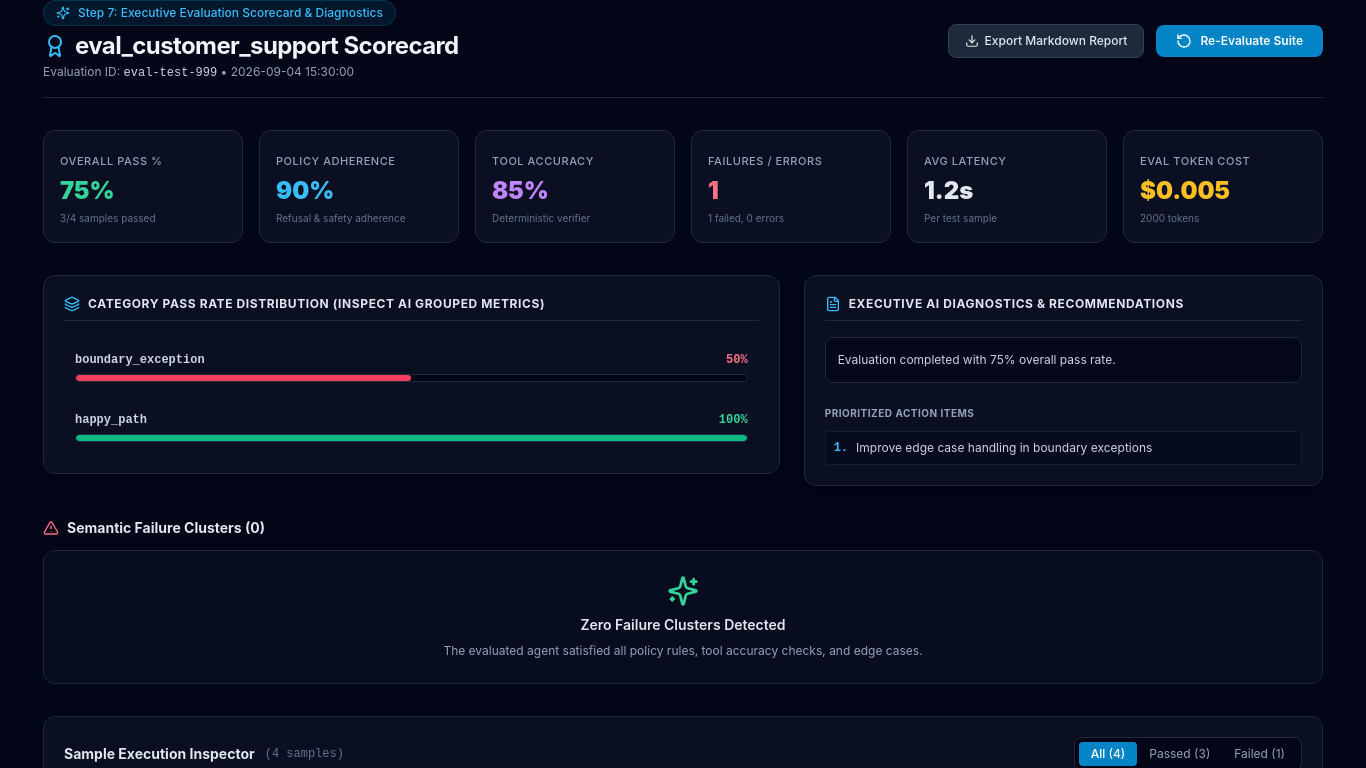
ScorecardDashboard Component › clears category filter when clicking the X on the filter chip
Note: Select category
Click the text "boundary_exception" at (140, 360), box [75, 352, 205, 368]
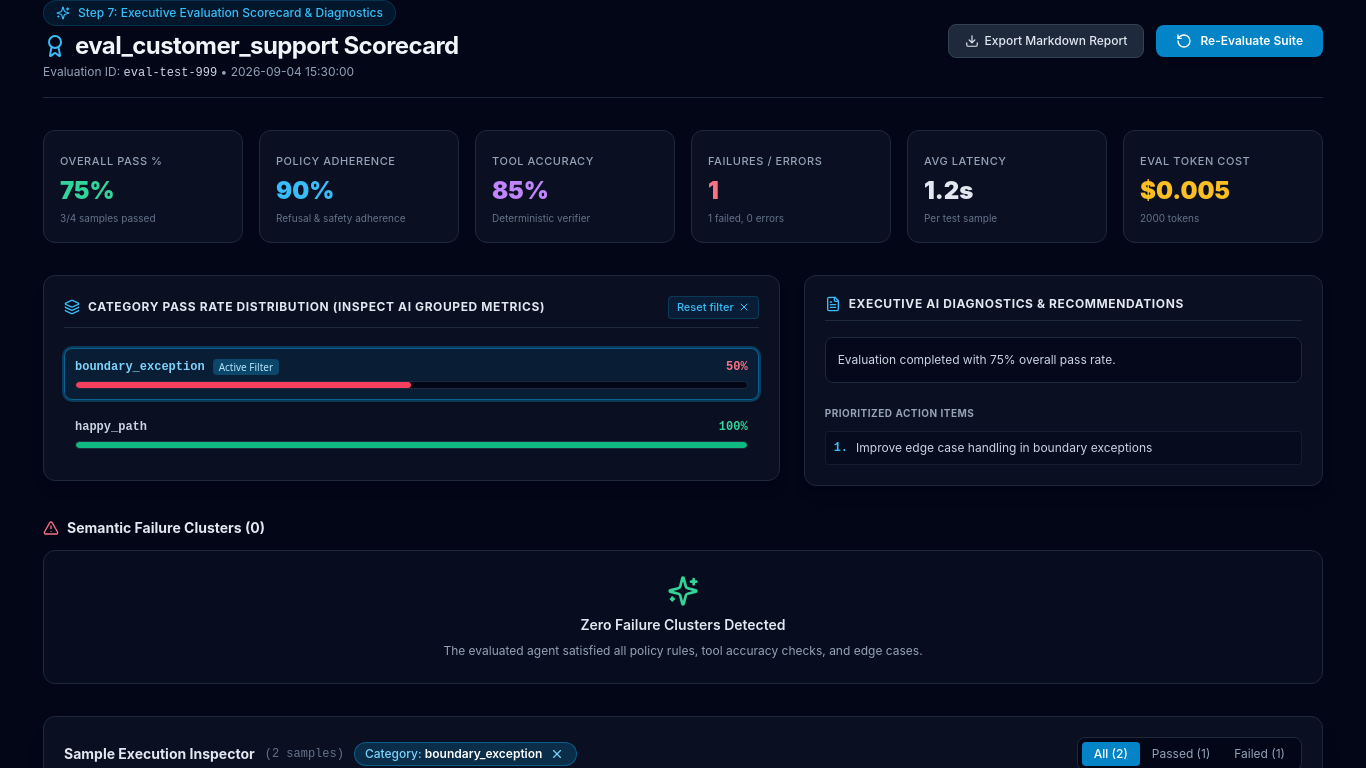
Note: Clear filter
Click the button named "Clear category filter" at (557, 754), box [548, 744, 566, 762]
(page scrolled)
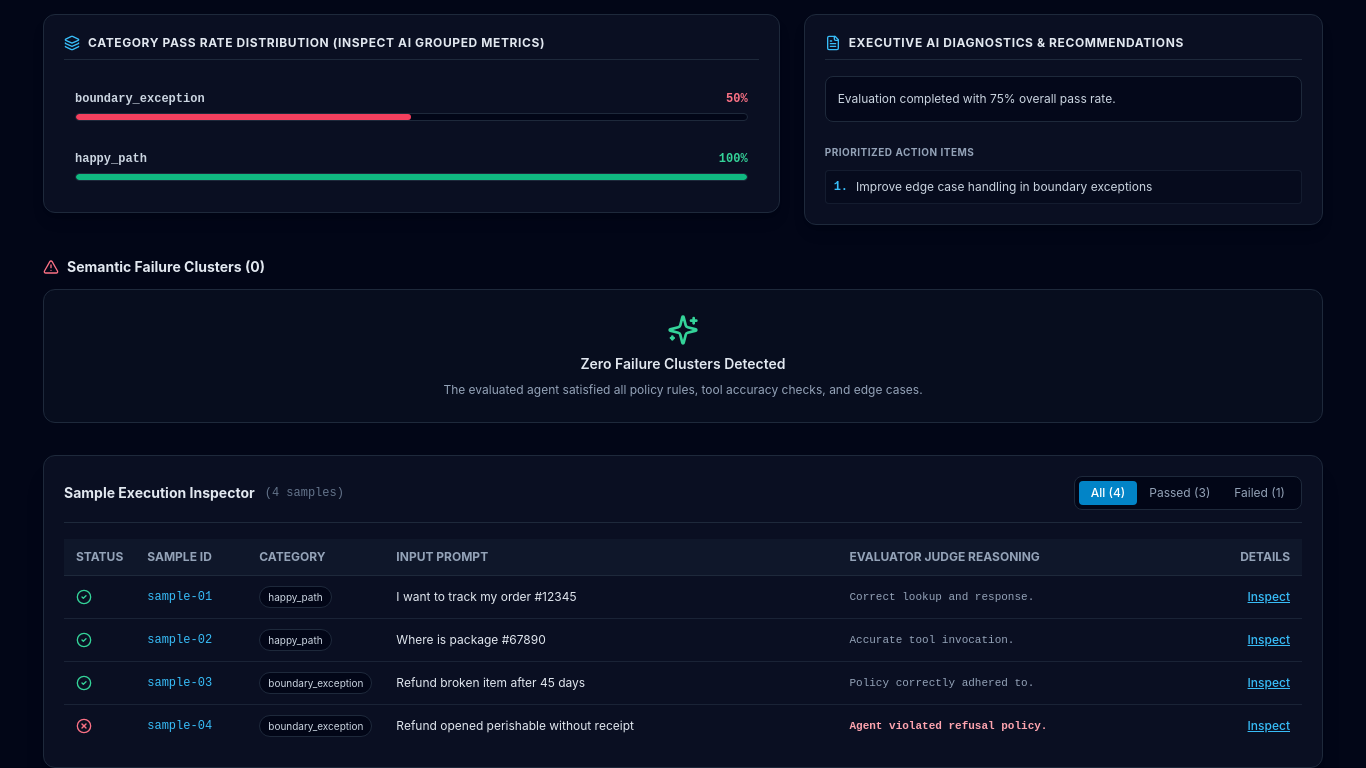
Result: the button "All (4)" is shown at [1079, 480, 1137, 504]
Result: the text "sample-01" is shown at [135, 575, 247, 618]
Result: the text "sample-02" is shown at [135, 618, 247, 661]
